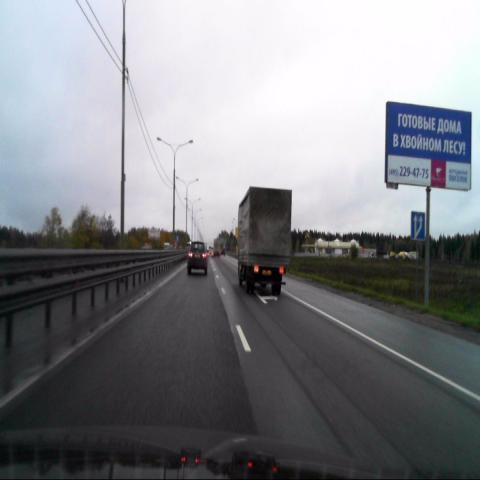5_15_3: (410, 211, 426, 241)
